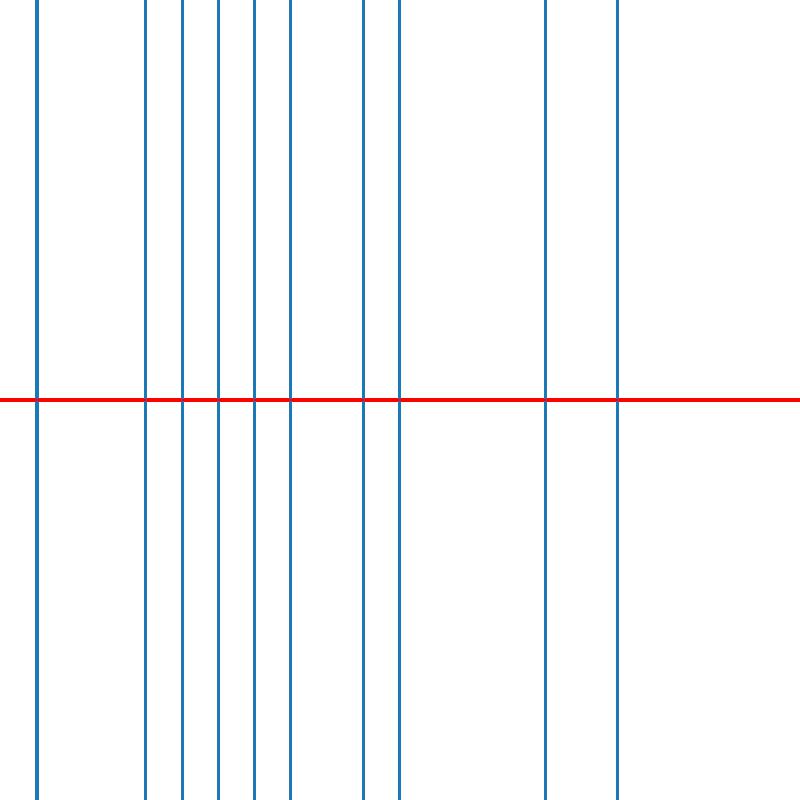root: (250, 396, 258, 404), (541, 396, 549, 404), (32, 396, 40, 404), (141, 396, 149, 404), (287, 396, 294, 404), (614, 396, 621, 404), (396, 396, 403, 404), (214, 396, 221, 404), (178, 396, 185, 404), (360, 396, 367, 404)
